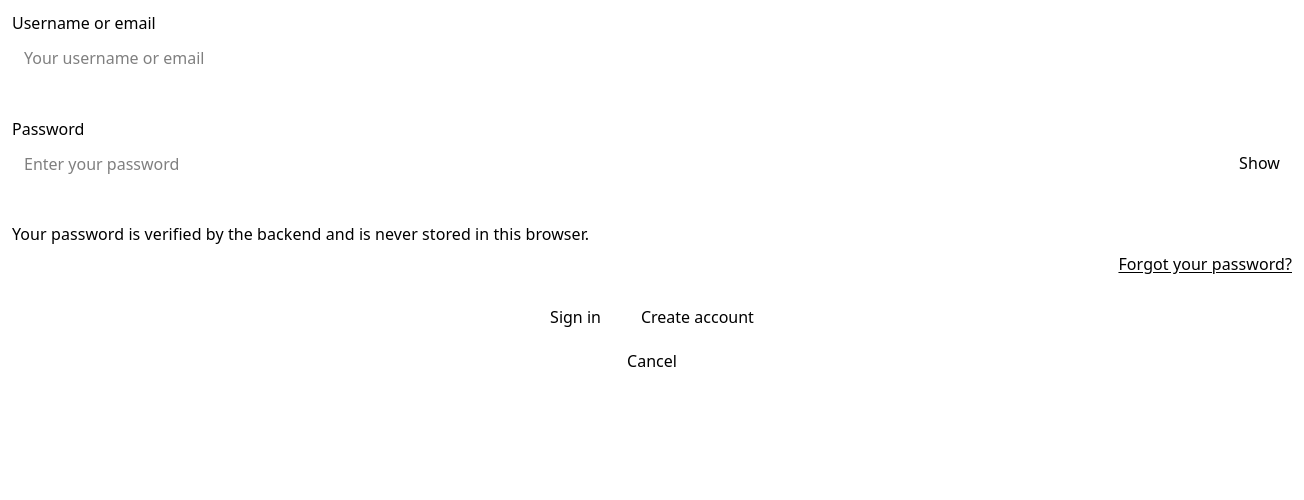
Test: ToolsAuth sign-in › creating an account still enforces the 6-character minimum
Step 1. Click the button "Create account" → point(697, 317), box top-left (627, 299), bottom-right (768, 335)
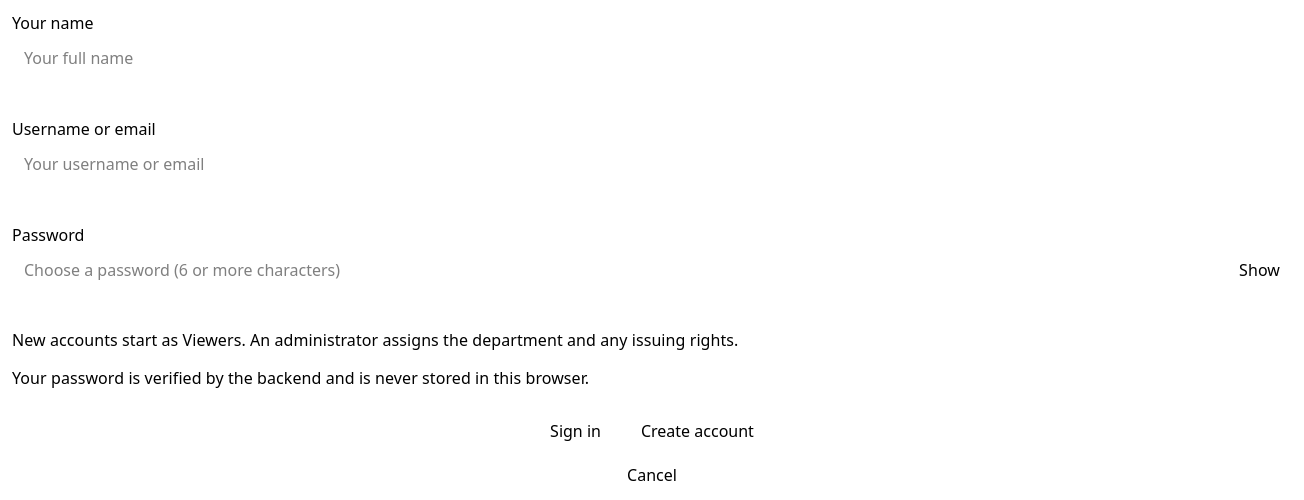
Step 2. Type "Rudo Moyo" into the field labelled "Your name" → point(652, 58), box top-left (12, 40), bottom-right (1292, 76)
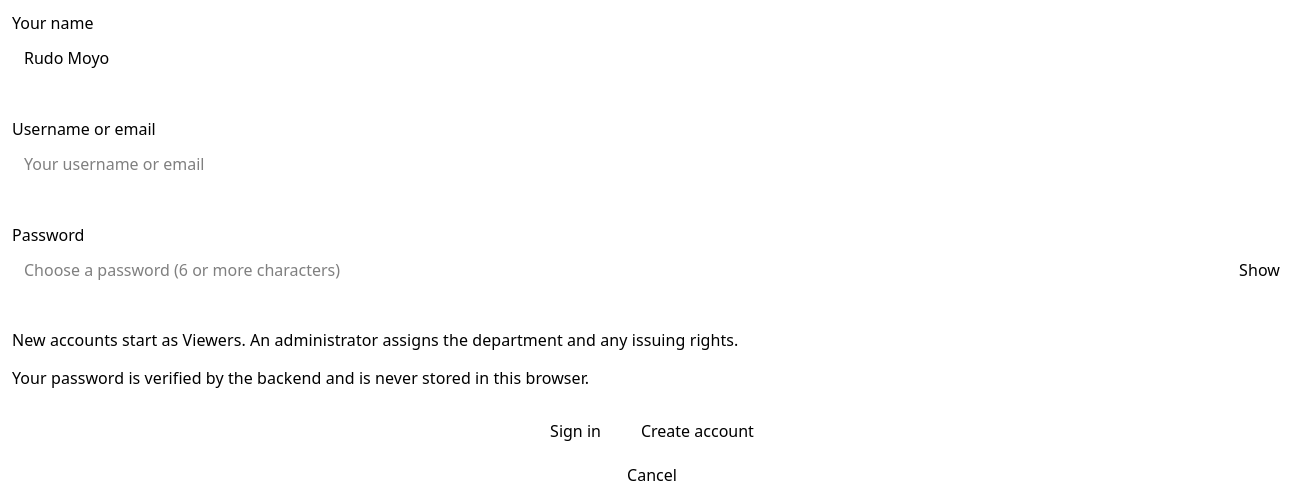
Step 3. Type "rudo" into the field labelled "Username or email" → point(652, 164), box top-left (12, 146), bottom-right (1292, 182)
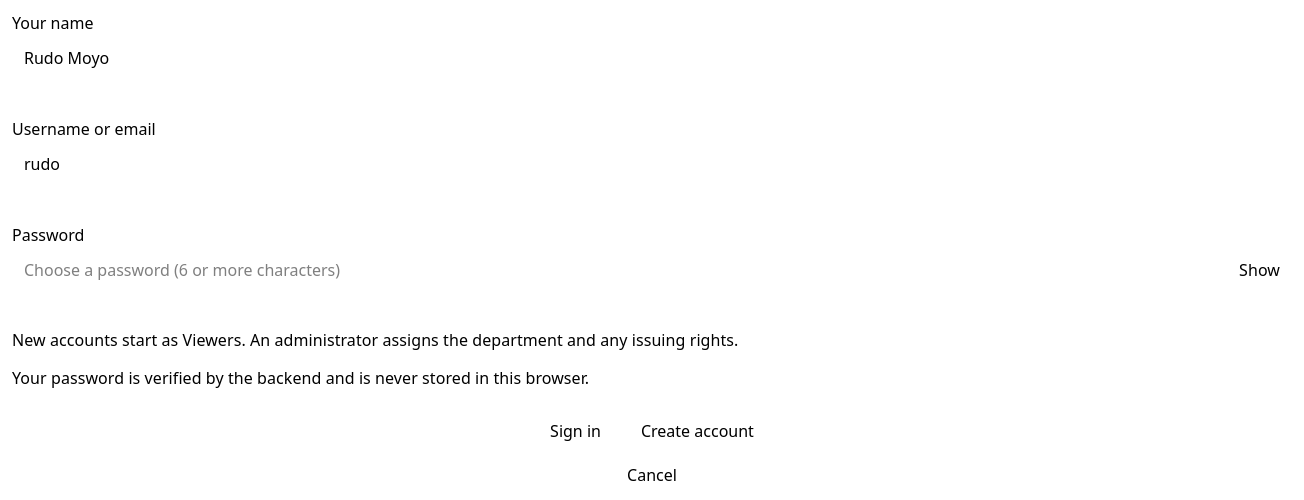
Step 4. Type "abc" into the password field labelled "Password" → point(652, 270), box top-left (12, 252), bottom-right (1292, 288)
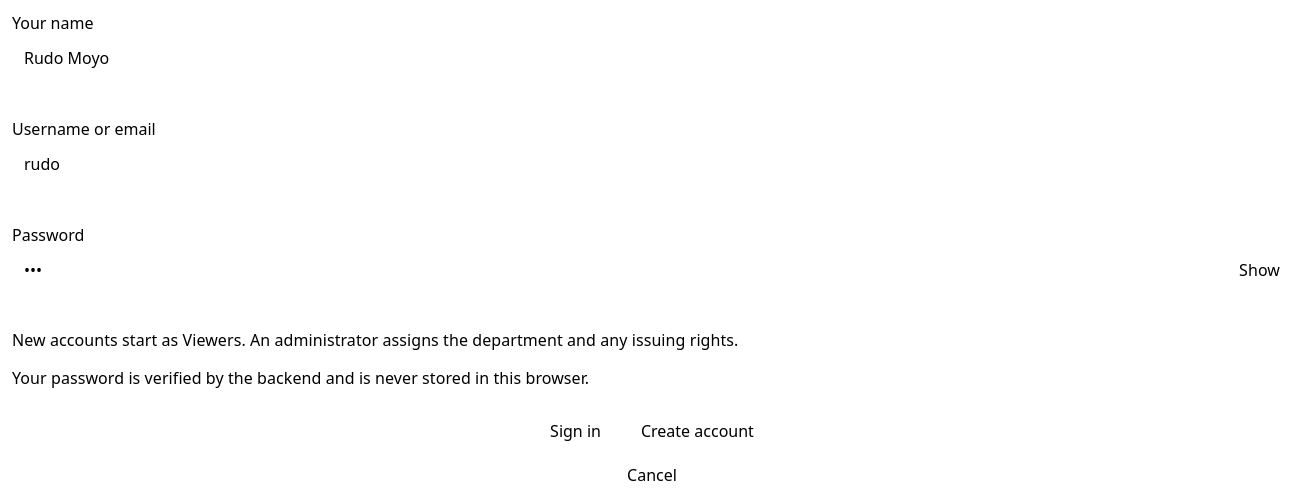
Step 5. Click the button "Create account" → point(697, 431), box top-left (627, 413), bottom-right (768, 449)
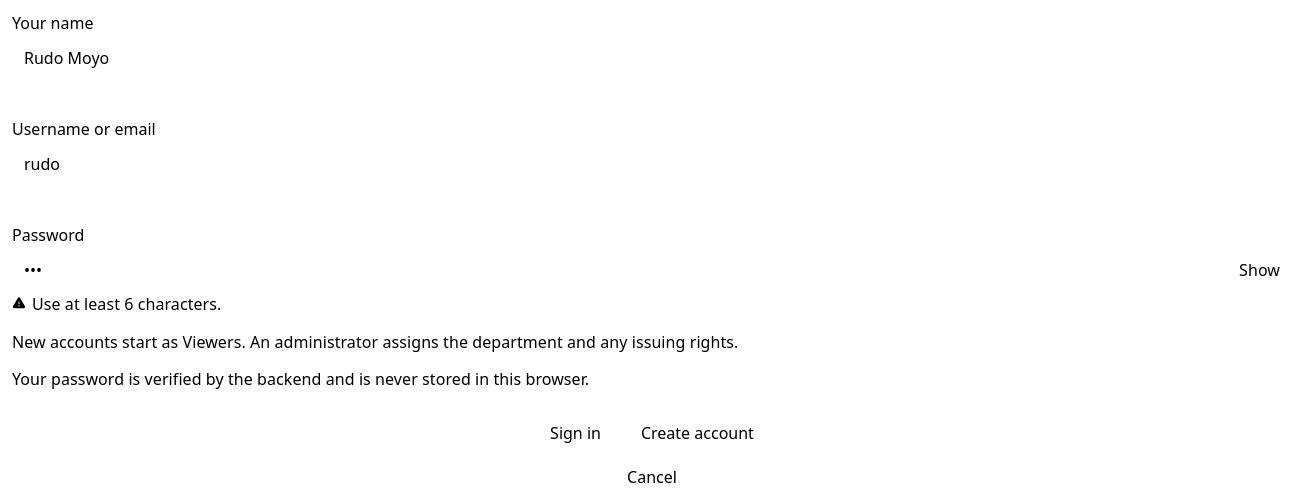
expect the text "Use at least 6 characters." is shown: met, box top-left (32, 294), bottom-right (221, 316)
